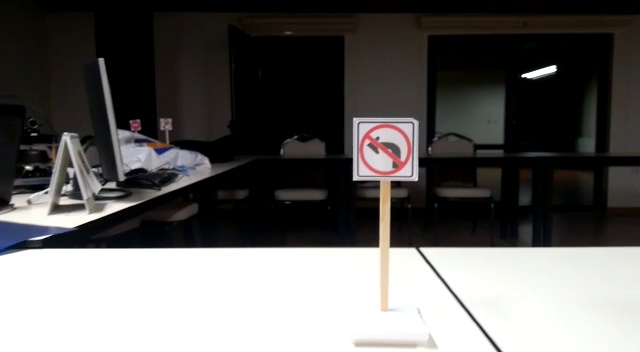sola_donulmez: (358, 120, 419, 179)
